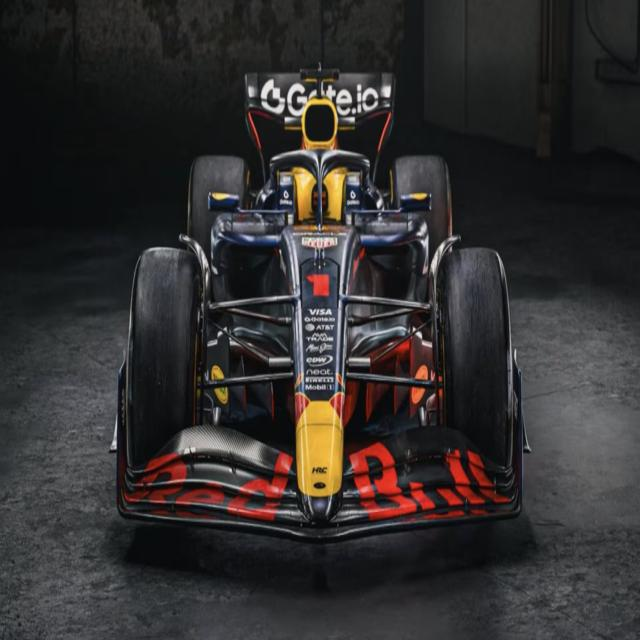Red Bull: (110, 56, 532, 558)
